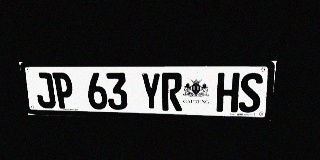3: (106, 73, 128, 110)
6: (86, 73, 108, 109)
H: (216, 73, 240, 112)
J: (33, 72, 56, 108)
P: (52, 72, 75, 109)
R: (161, 73, 182, 111)
S: (238, 73, 263, 113)
Y: (140, 73, 161, 111)
